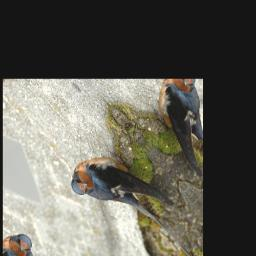Swallow: (62, 133, 190, 256)
